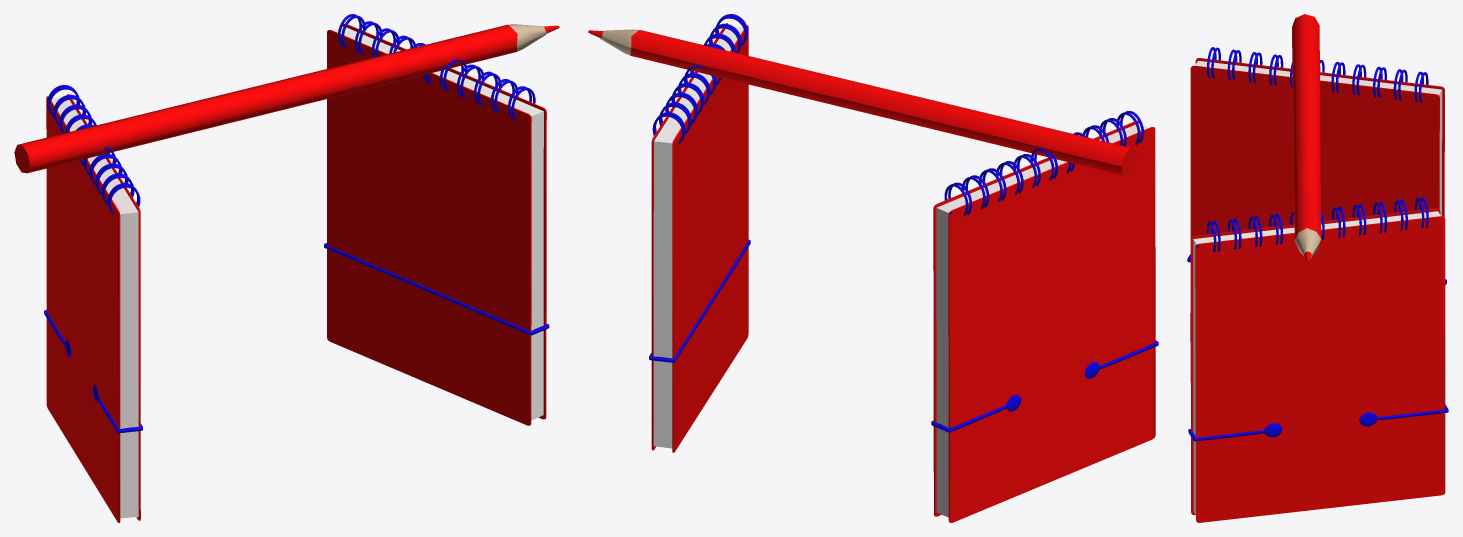
3 views of the same model, side by side, from view 1: azimuth 30°, elevation 25°; view 2: azimuth 150°, elevation 25°; view 3: azimuth 270°, elevation 25° (orthographic). The views are drawn at different scales.
Visible parts, largest first — view 1: small_notepad, small_notepad.001, pencil_blue; view 2: small_notepad.001, small_notepad, pencil_blue; view 3: small_notepad, small_notepad.001, pencil_blue.
Boxes of the visible parts, x1=… form: small_notepad: x1=324, y1=14, x2=549, y2=425; small_notepad.001: x1=44, y1=85, x2=142, y2=522; pencil_blue: x1=14, y1=24, x2=559, y2=173; small_notepad.001: x1=931, y1=111, x2=1158, y2=522; small_notepad: x1=649, y1=14, x2=750, y2=452; pencil_blue: x1=588, y1=29, x2=1136, y2=176; small_notepad: x1=1188, y1=197, x2=1448, y2=522; small_notepad.001: x1=1187, y1=47, x2=1446, y2=341; pencil_blue: x1=1292, y1=14, x2=1321, y2=262.
Size of the model in its own units: 3319 by 2021 by 1557.
